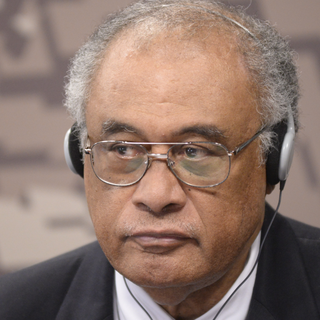eye: (169, 134, 220, 167), (97, 138, 149, 167)
